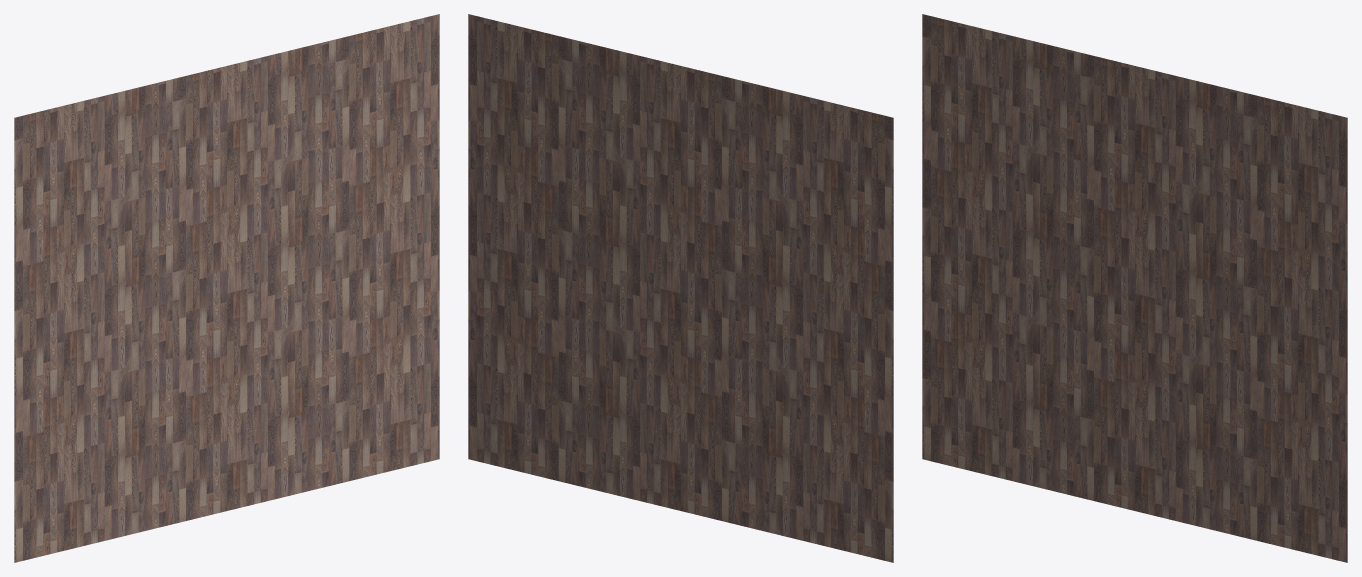
Rendered from piso.dae.
3 views of the same model, side by side, from view 1: azimuth 30°, elevation 25°; view 2: azimuth 150°, elevation 25°; view 3: azimuth 330°, elevation 25° (orthographic).
Parts seen in each view (by area): view 1: node; view 2: node; view 3: node.
Part boxes in pixels (bbox=[...]): node: bbox=[14, 14, 439, 562]; node: bbox=[468, 14, 893, 562]; node: bbox=[922, 14, 1347, 562].
Bounding box in the file's own units: 13039 × 13039 × 0.
Materials: 1 (1 with a texture image).
